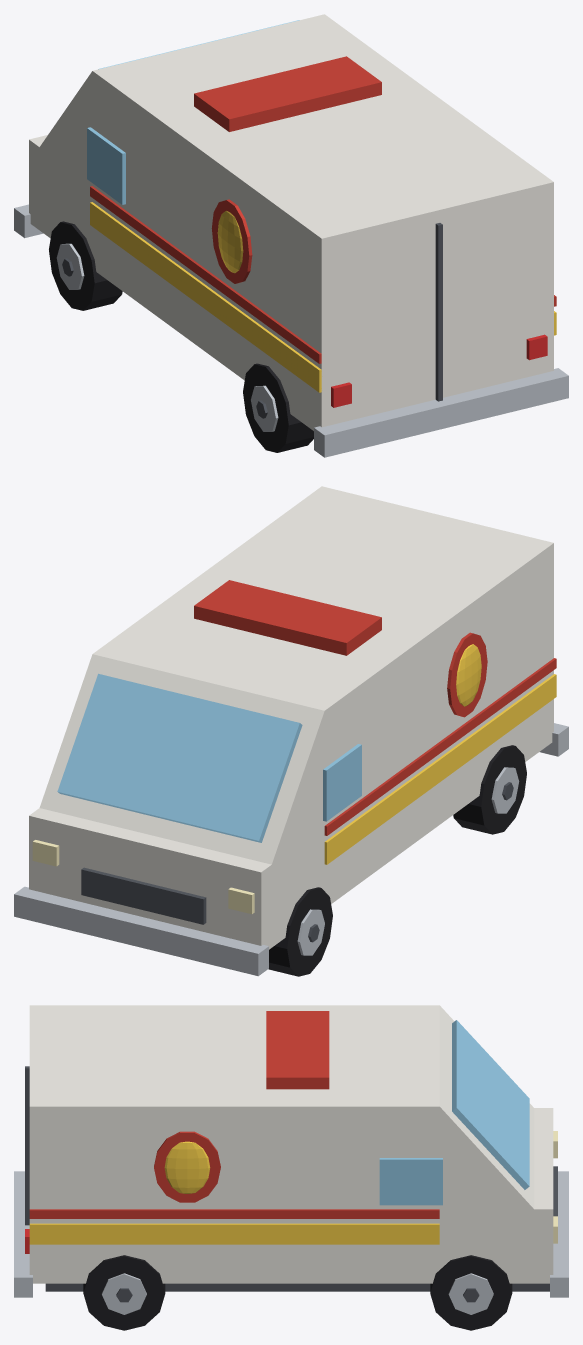
File: DeliveryVan.fbx
The picture shows the model from 3 angles, top to bottom: view 1: azimuth 30°, elevation 25°; view 2: azimuth 150°, elevation 25°; view 3: azimuth 270°, elevation 25°; orthographic projection. The views are drawn at different scales.
Visible parts, largest first — view 1: DeliveryVan; view 2: DeliveryVan; view 3: DeliveryVan.
Boxes of the visible parts, box(x1,y1,x2,y2) form: DeliveryVan: box(14, 14, 568, 457); DeliveryVan: box(14, 486, 568, 976); DeliveryVan: box(14, 1005, 568, 1330).
Size of the model in its own units: 228 by 230 by 493.
